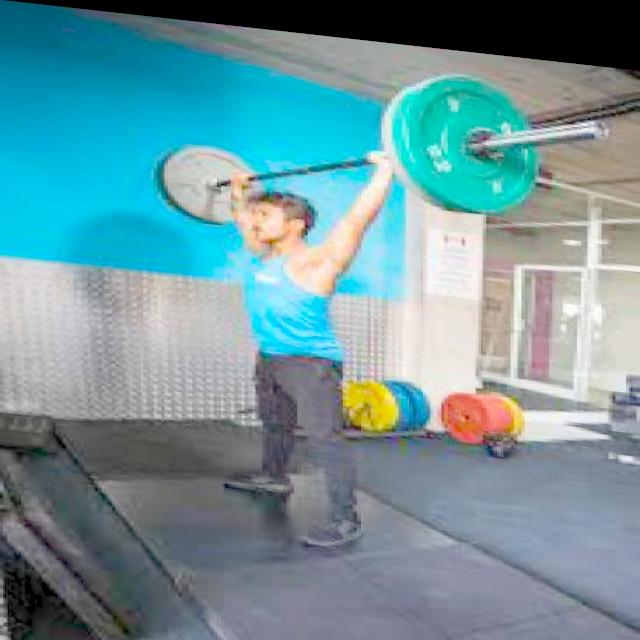barbell: (404, 57, 614, 215)
